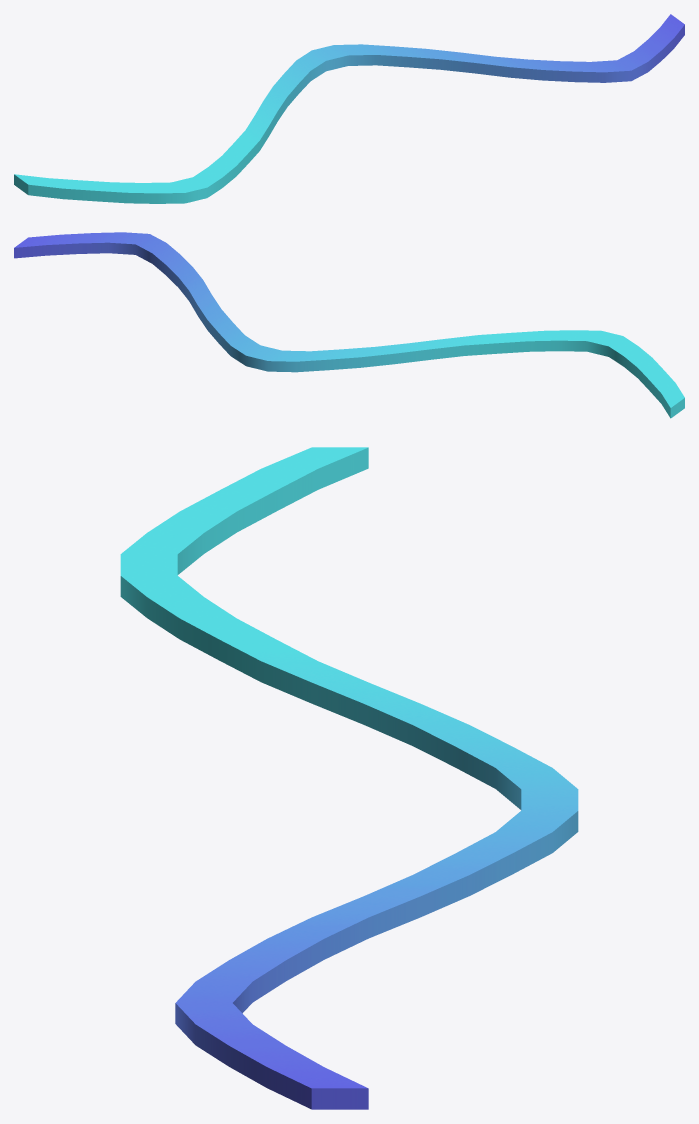
The model's file is kune.fbx.
3 views of the same model, one above another, from view 1: azimuth 30°, elevation 25°; view 2: azimuth 150°, elevation 25°; view 3: azimuth 270°, elevation 25° (orthographic). The views are drawn at different scales.
Visible parts, largest first — view 1: pCube1; view 2: pCube1; view 3: pCube1.
Part boxes in pixels (box(x1,y1,x2,y2)): pCube1: box(14, 14, 684, 203); pCube1: box(14, 232, 684, 418); pCube1: box(120, 447, 578, 1109).
Size of the model in its own units: 250 by 3.84 by 75.57.
